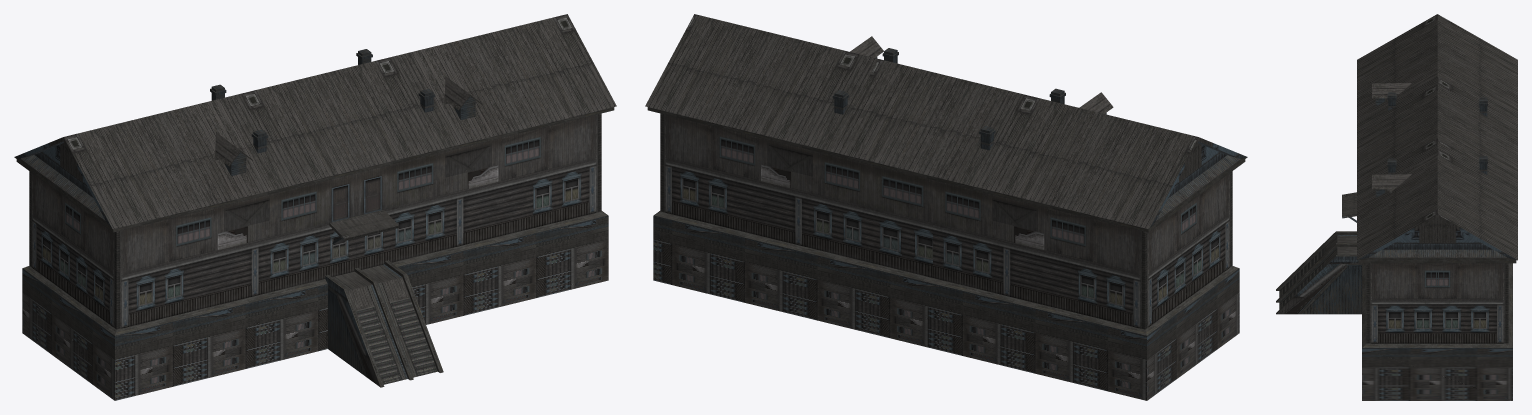
File: RurHouse2floor.FBX
3 renders of one model, left to right at view 1: azimuth 30°, elevation 25°; view 2: azimuth 150°, elevation 25°; view 3: azimuth 270°, elevation 25°, orthographic. The views are drawn at different scales.
Visible parts, largest first — view 1: house; view 2: house; view 3: house.
Part boxes in pixels (x1,y1,x2,y2): house: (14,14,616,400); house: (645,14,1247,400); house: (1276,14,1517,400).
Size of the model in its own units: 27.66 by 12.13 by 14.1.
